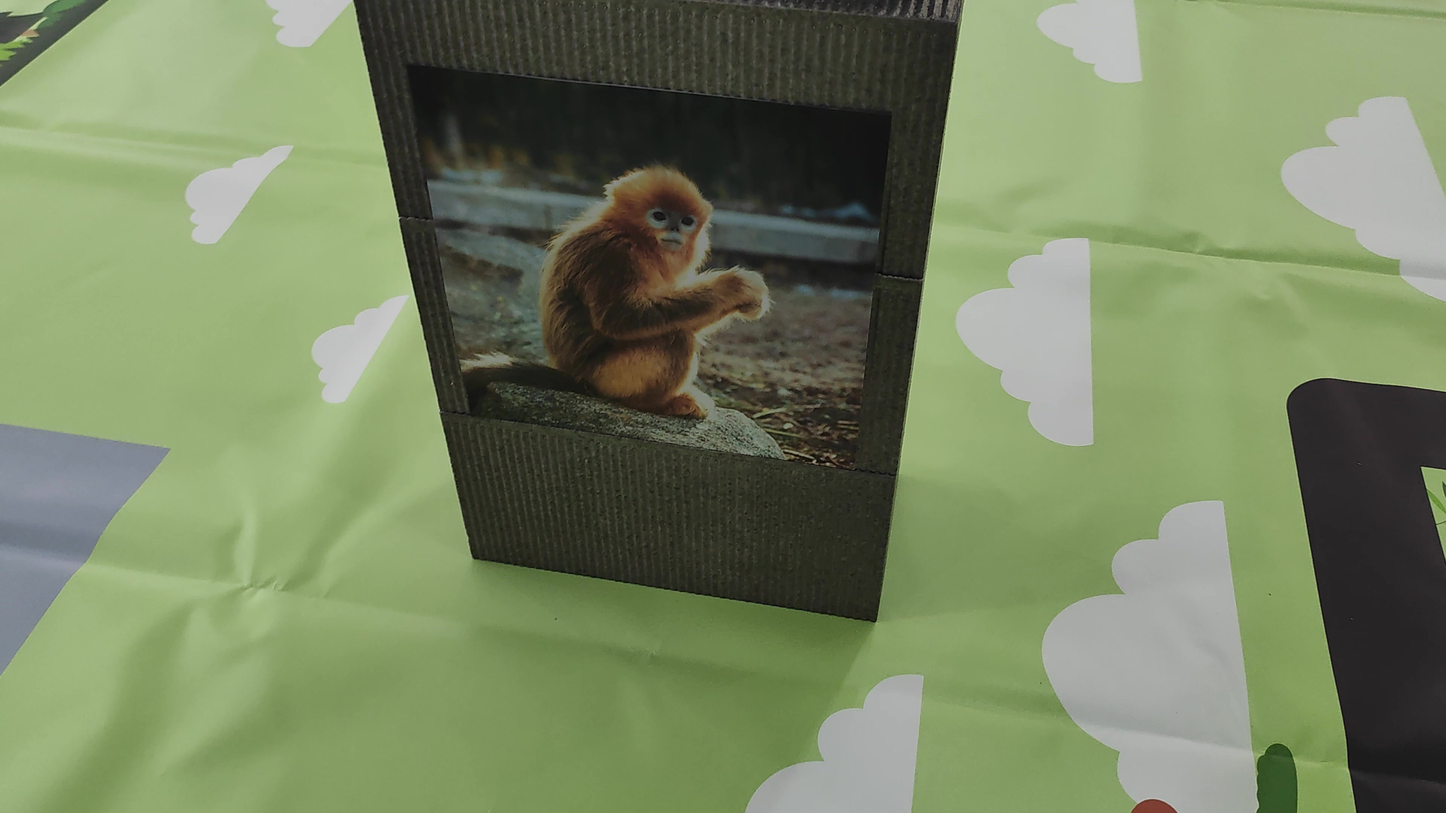monkey: (513, 108, 807, 420)
